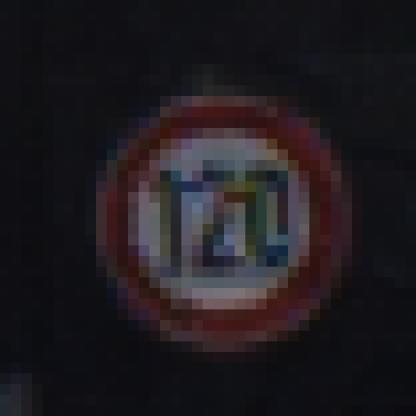Speed Limit 120: (104, 102, 346, 344)
